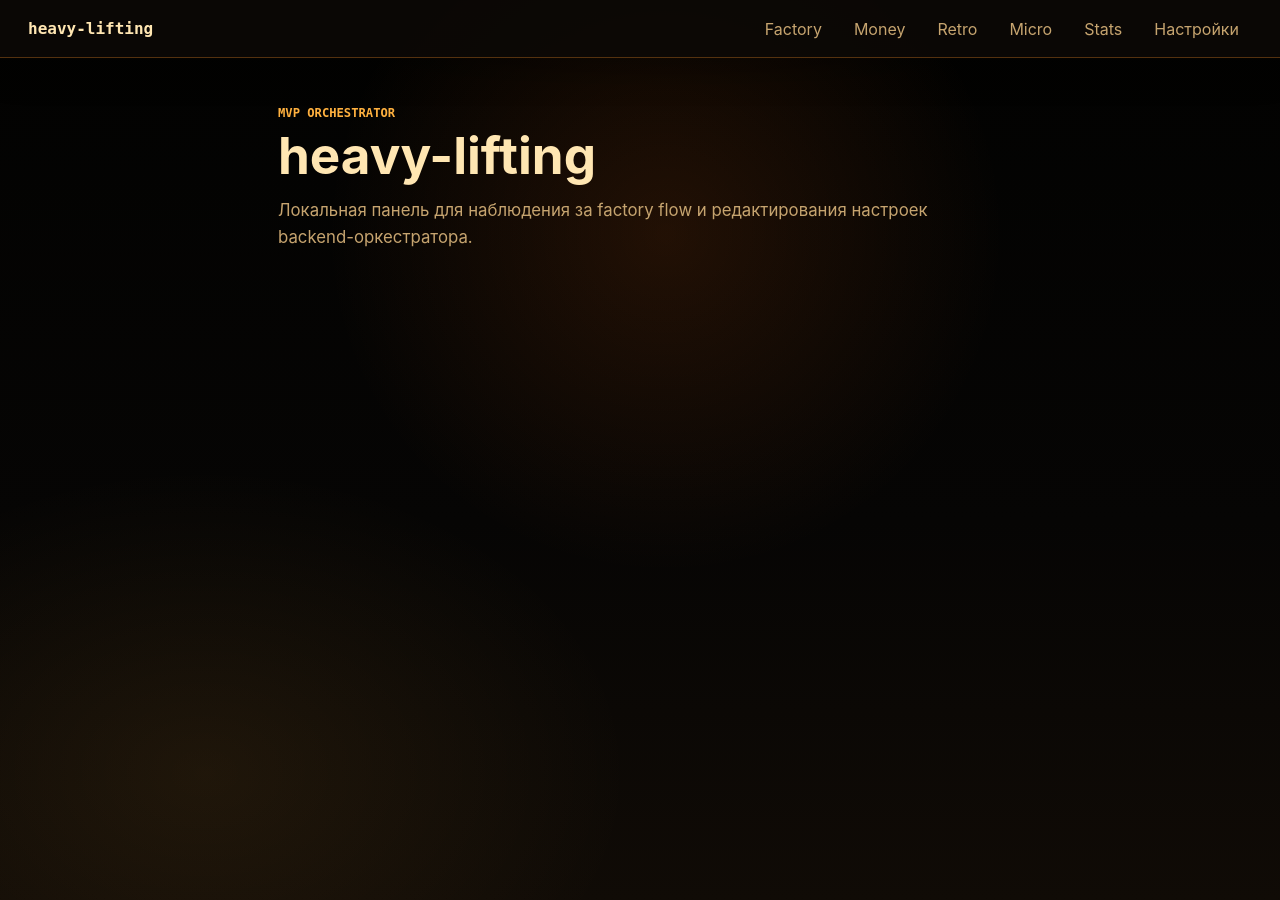
App › opens retro from the topbar and shows loading state
Click the button "Retro": x=957, y=28 [924,10,990,48]
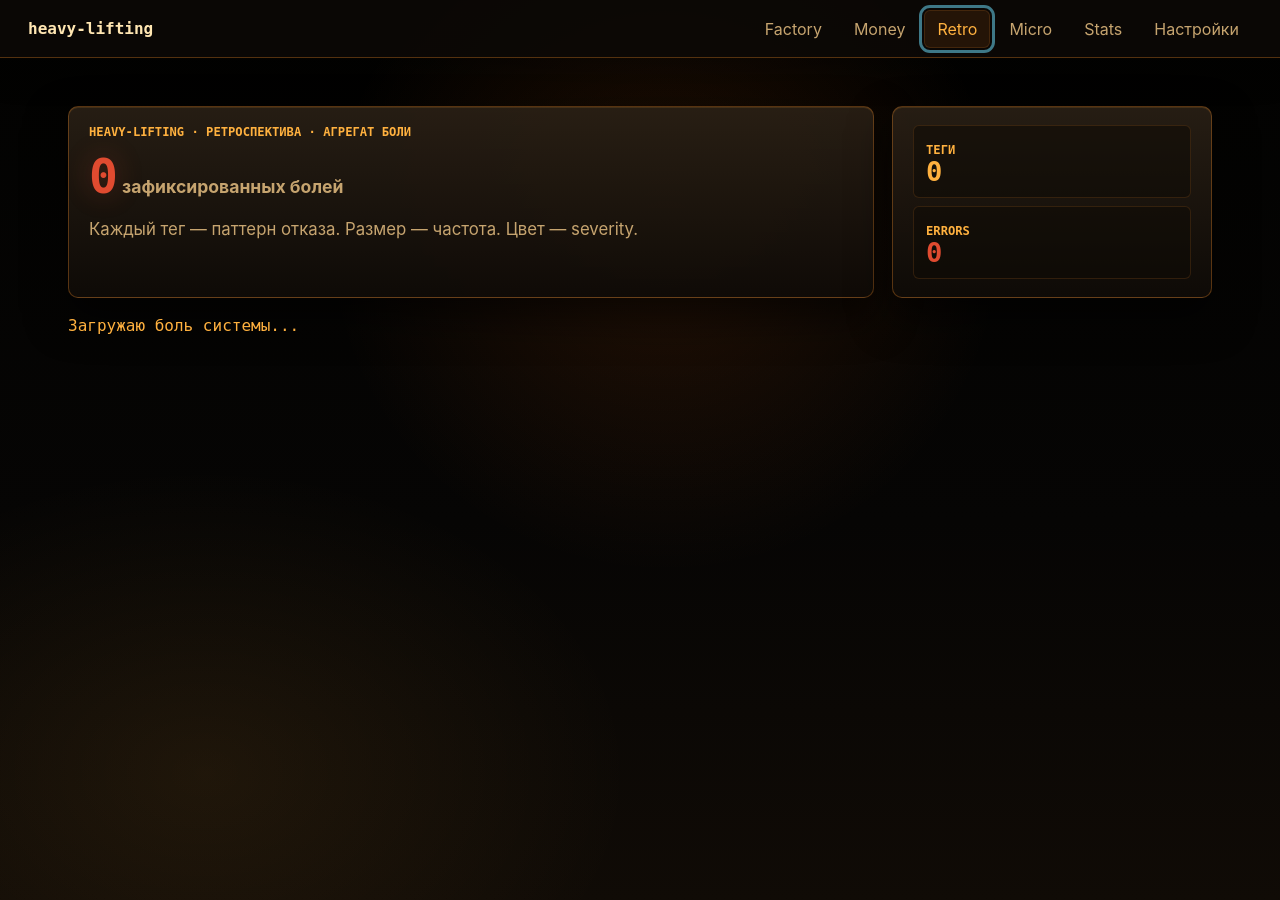
Expected: the text "heavy-lifting · ретроспектива · агрегат боли" is shown, [89,125,411,139]
Expected: the text "Загружаю боль системы..." is shown, [68,316,299,335]
